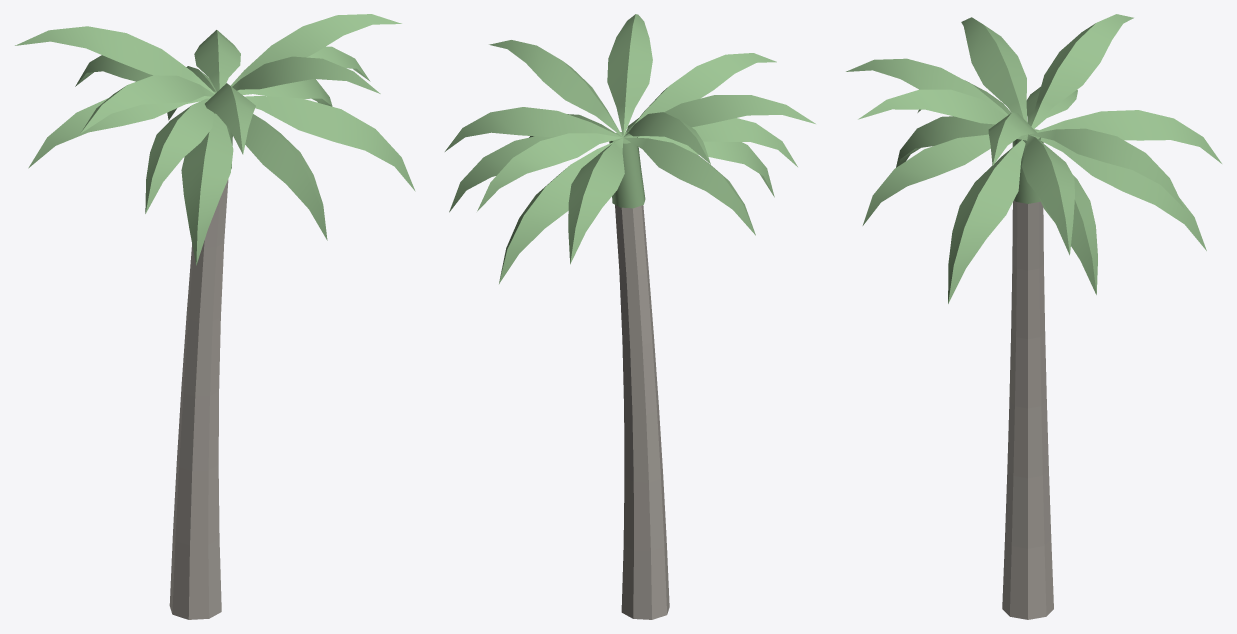
File: tree-palm-a.glb
3 renders of one model, left to right at view 1: azimuth 30°, elevation 25°; view 2: azimuth 150°, elevation 25°; view 3: azimuth 270°, elevation 25°, orthographic. The views are drawn at different scales.
Visible parts, largest first — view 1: tree-palm-a; view 2: tree-palm-a; view 3: tree-palm-a.
Part boxes in pixels (x1,y1,x2,y2): tree-palm-a: (15,14,415,619); tree-palm-a: (445,14,815,619); tree-palm-a: (846,14,1221,619).
Bounding box in the file's own units: 0.6327 × 1 × 0.6196.
